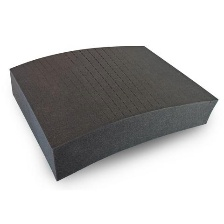foam_box: (6, 41, 220, 184)
